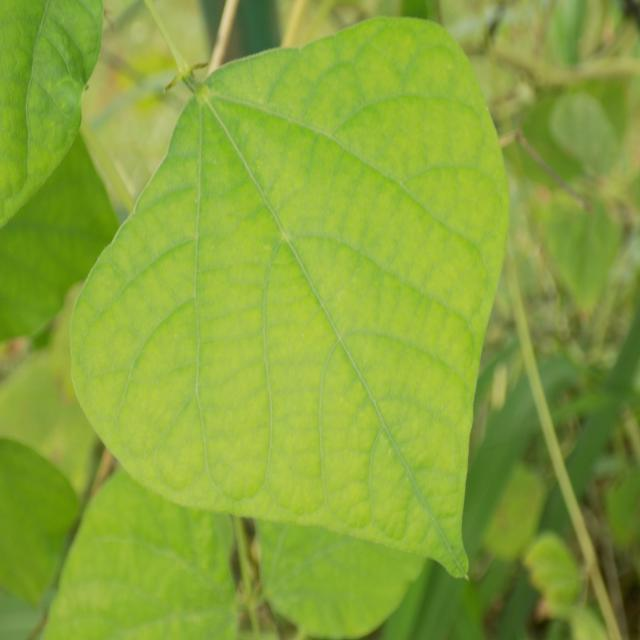Dolicos bean_healthy: (61, 22, 509, 586), (247, 419, 428, 640), (0, 83, 138, 340), (43, 480, 242, 640)
